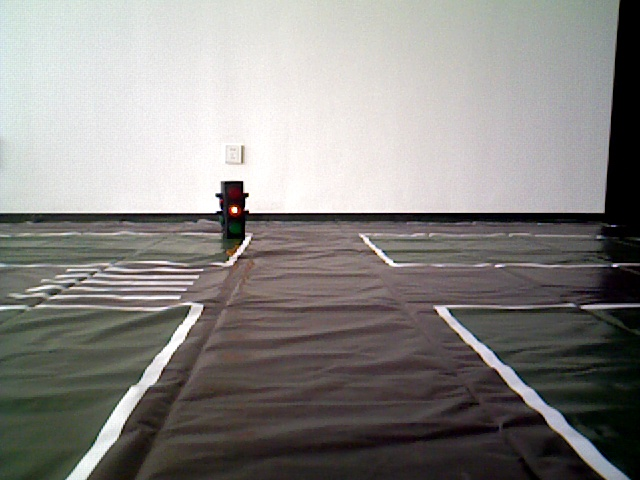yellow: (220, 181, 245, 241)
